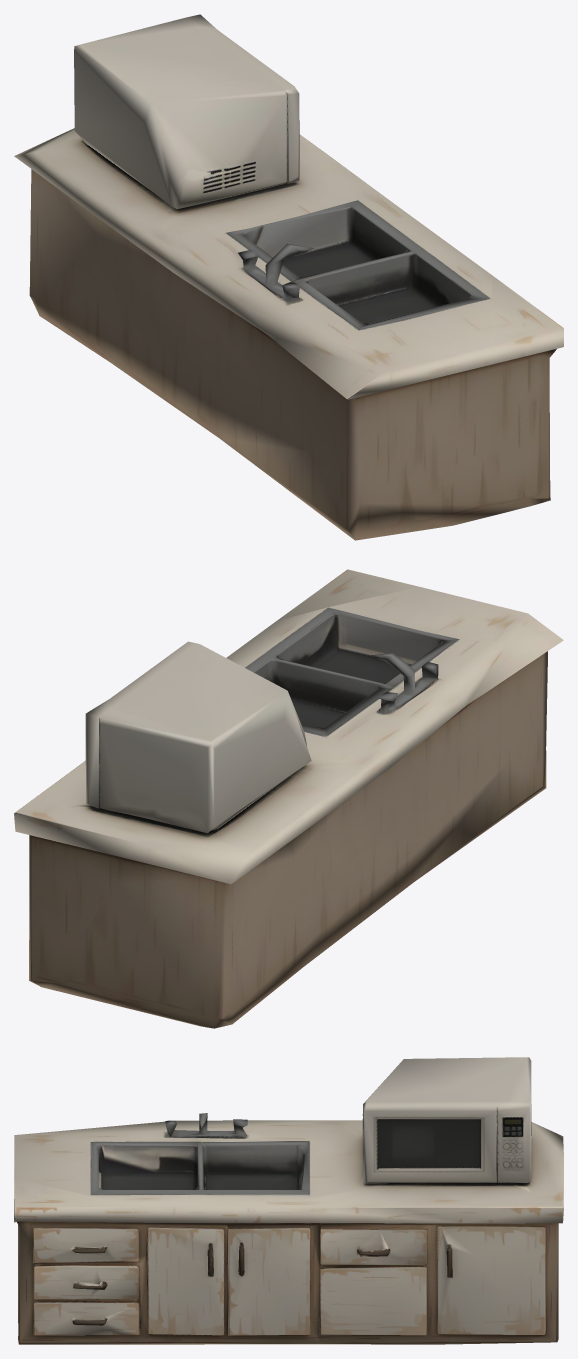
The model's file is kitchen.fbx.
3 renders of one model, top to bottom at view 1: azimuth 30°, elevation 25°; view 2: azimuth 150°, elevation 25°; view 3: azimuth 270°, elevation 25°, orthographic. The views are drawn at different scales.
Parts seen in each view (by area): view 1: tripo_node_19a9bf89; view 2: tripo_node_19a9bf89; view 3: tripo_node_19a9bf89.
Boxes of the visible parts, bbox=[...] form: tripo_node_19a9bf89: bbox=[14, 14, 563, 540]; tripo_node_19a9bf89: bbox=[14, 569, 563, 1028]; tripo_node_19a9bf89: bbox=[14, 1057, 563, 1344].
Size of the model in its own units: 0.3786 by 0.438 by 0.979.
